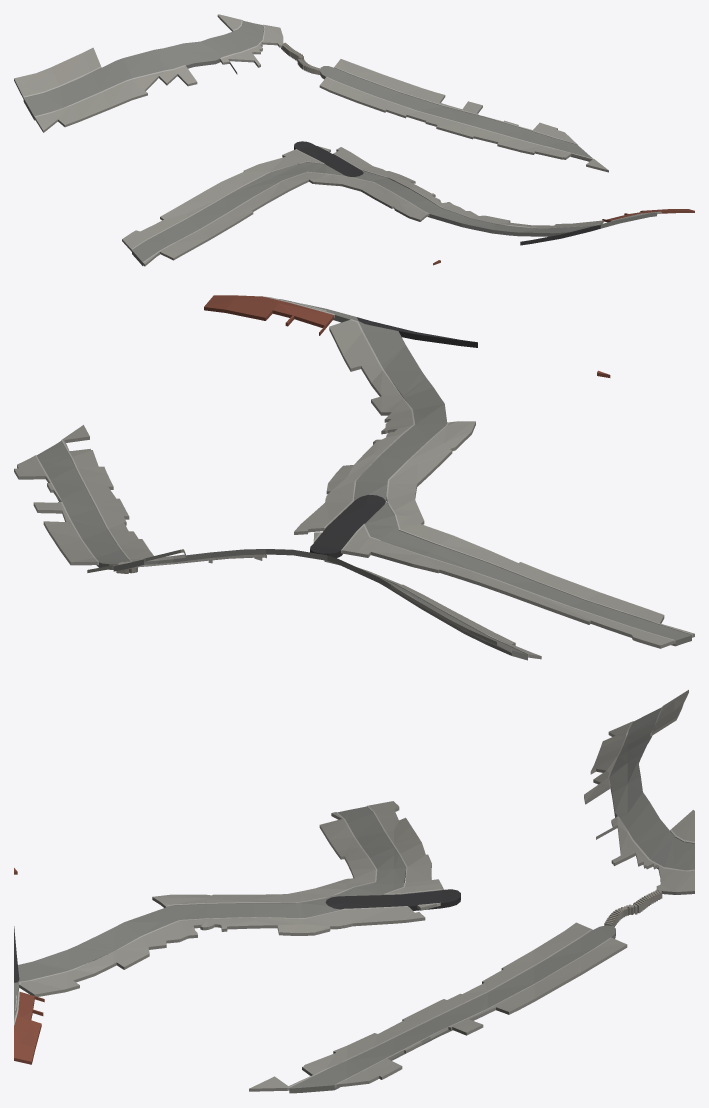
3 renders of one model, top to bottom at view 1: azimuth 30°, elevation 25°; view 2: azimuth 150°, elevation 25°; view 3: azimuth 270°, elevation 25°, orthographic. The views are drawn at different scales.
Bounding box in the file's own units: 147 × 35.44 × 146.
